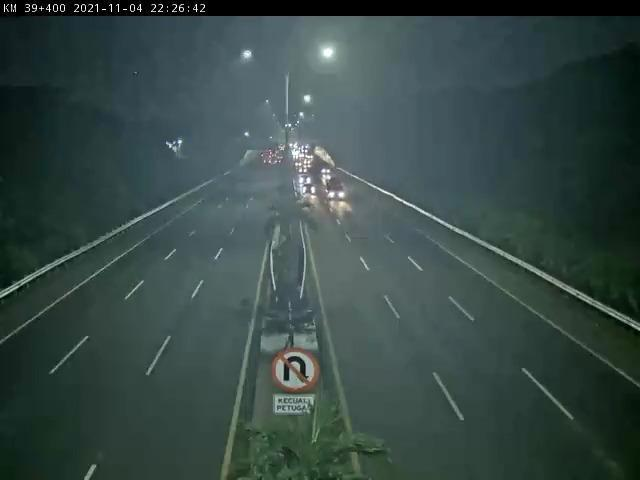car: (325, 177, 345, 201)
